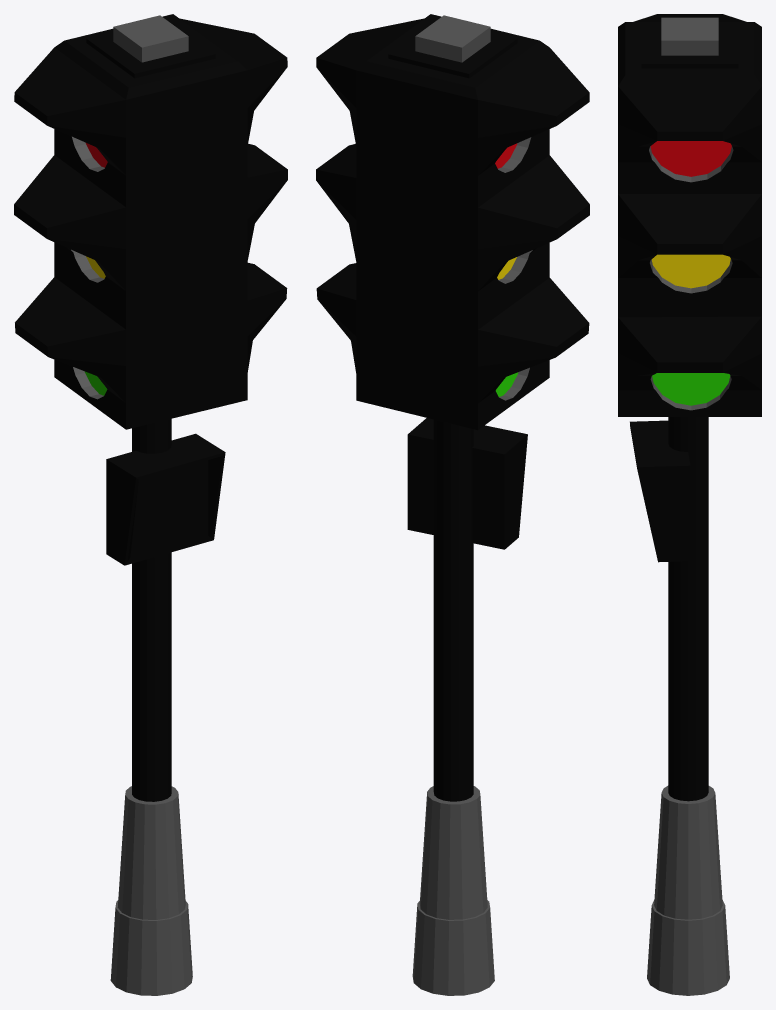
The model's file is Semáforo.fbx.
3 renders of one model, left to right at view 1: azimuth 30°, elevation 25°; view 2: azimuth 150°, elevation 25°; view 3: azimuth 270°, elevation 25°, orthographic.
Visible parts, largest first — view 1: semaforo, caixa; view 2: semaforo, caixa; view 3: semaforo, caixa, luz-red, luz-yell, luz-green.
Part boxes in pixels (x1,y1,x2,y2): semaforo: [14, 14, 287, 995]; caixa: [106, 433, 225, 565]; semaforo: [316, 14, 589, 995]; caixa: [407, 418, 527, 549]; semaforo: [618, 14, 761, 995]; caixa: [630, 420, 690, 562]; luz-red: [650, 141, 731, 176]; luz-yell: [651, 254, 730, 288]; luz-green: [652, 373, 730, 405].
Size of the model in its own units: 109 by 408 by 56.05.
Materials: 5 (1 with a texture image).
